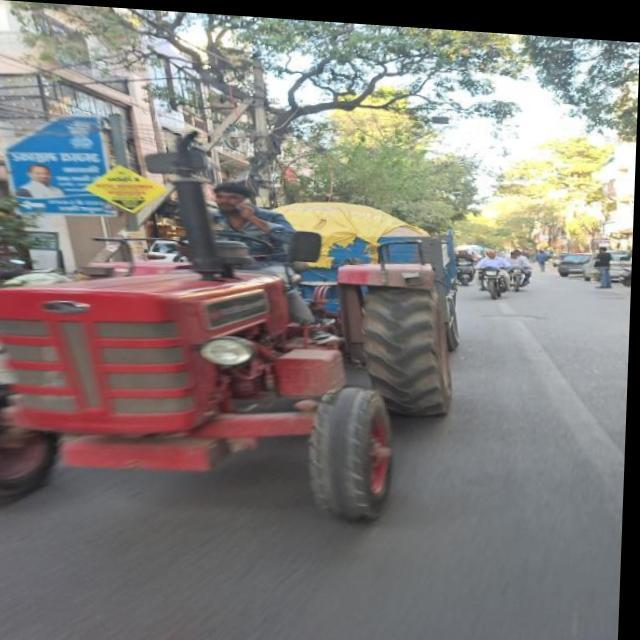covered: (230, 174, 453, 315)
